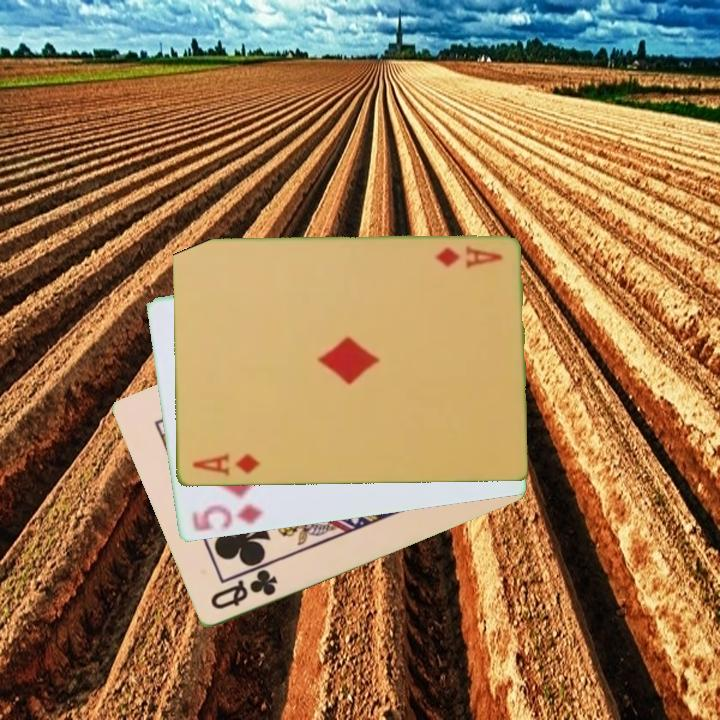5d: (188, 500, 265, 535)
Ad: (188, 450, 262, 480), (431, 243, 505, 272)
Qc: (206, 566, 281, 613)
